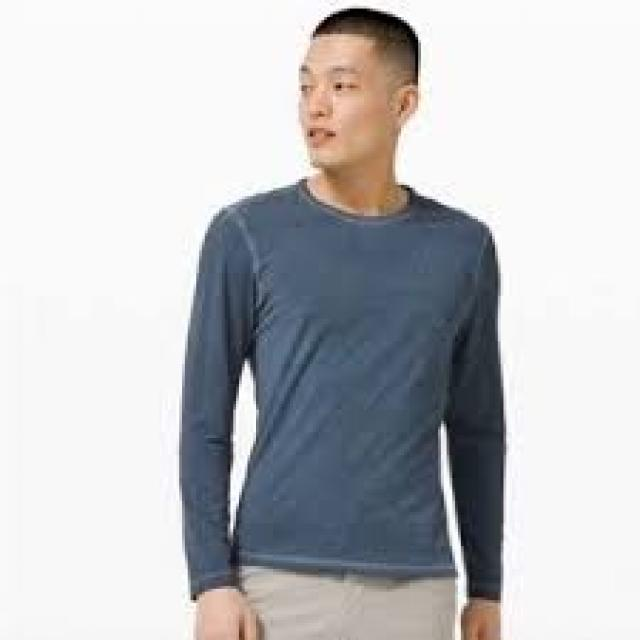plain: (178, 171, 509, 591)
